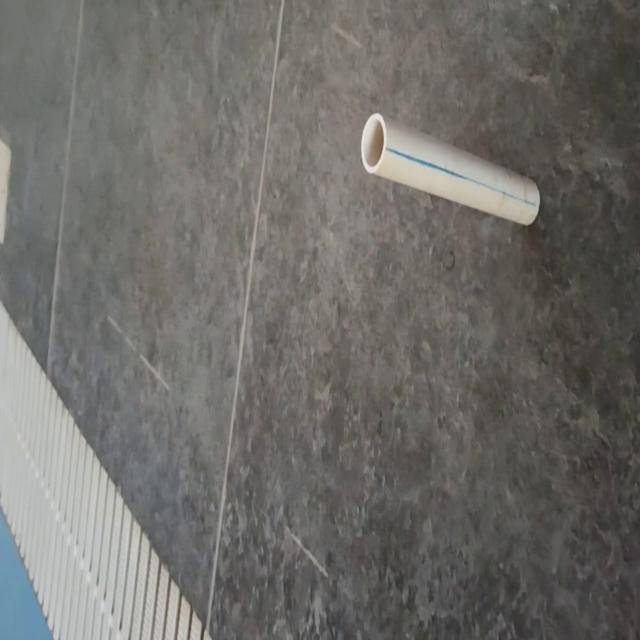Cube: (360, 110, 540, 228)
